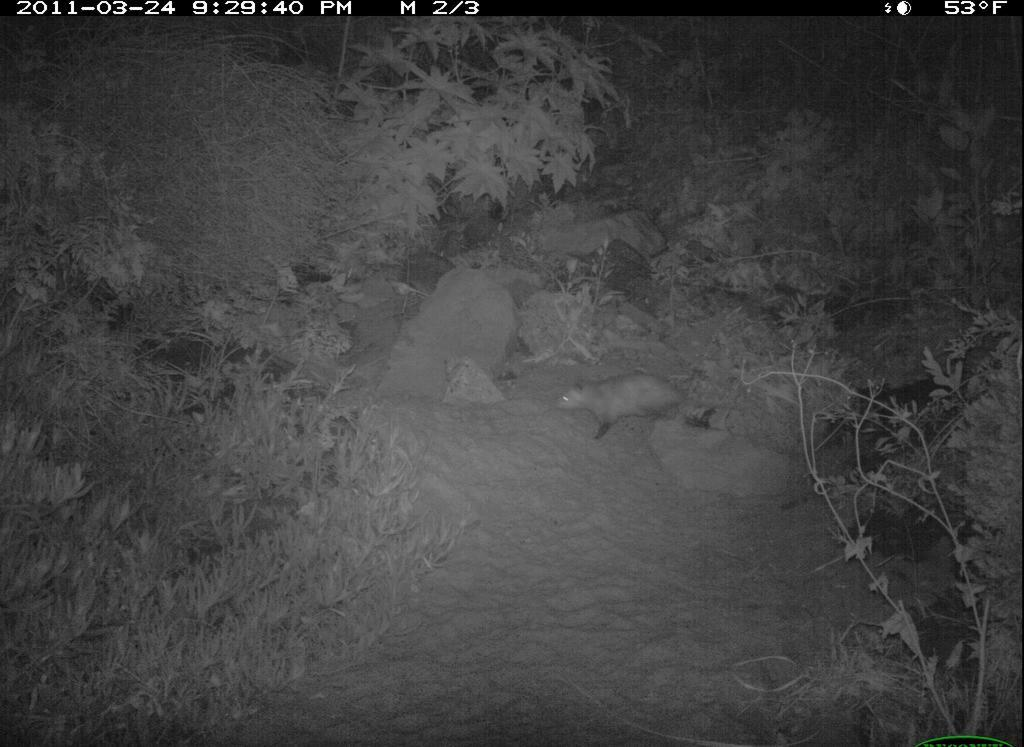opossum: (557, 353, 702, 449)
